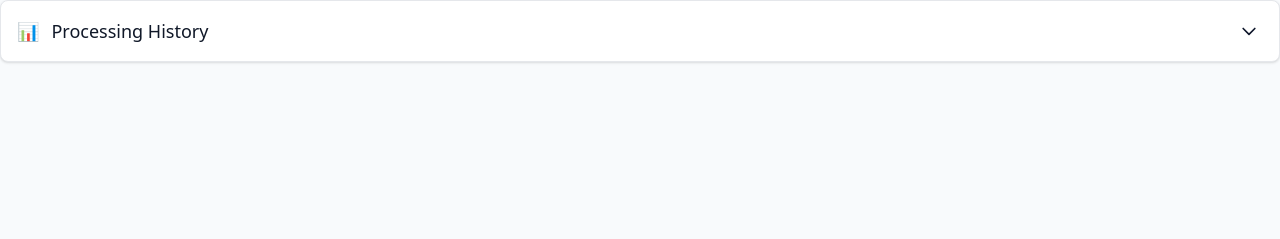
Test: ProcessingPanel › guards against malformed stage lists in the history payload
The width and height of the screenshot is (1280, 239).
What coordinates should you click on to do the following:
click the heading "Processing History"
I would click on:
 (130, 31)
Its box is left=52, top=17, right=208, bottom=45.
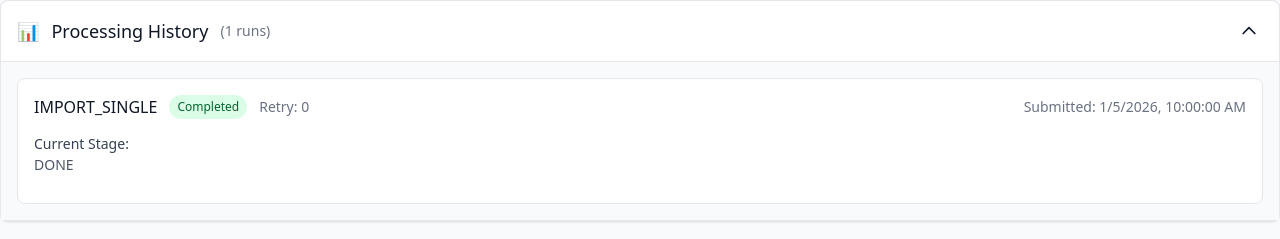
Result: the text "IMPORT_SINGLE" is shown at left=34, top=95, right=157, bottom=119
